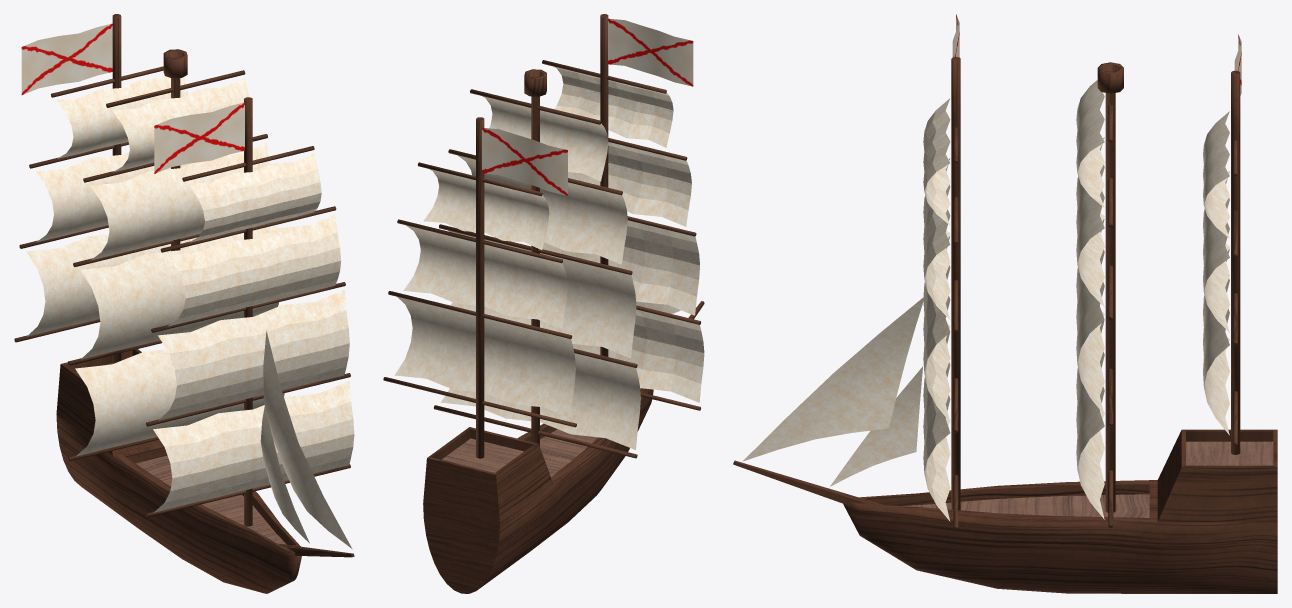
Rendered from ship.fbx.
The picture shows the model from 3 angles, left to right: view 1: azimuth 30°, elevation 25°; view 2: azimuth 150°, elevation 25°; view 3: azimuth 270°, elevation 25°; orthographic projection. The views are drawn at different scales.
Parts seen in each view (by area): view 1: Cylinder.002; view 2: Cylinder.002; view 3: Cylinder.002.
Boxes of the visible parts, <box> form: Cylinder.002: <box>14,14,354,593</box>; Cylinder.002: <box>383,14,704,593</box>; Cylinder.002: <box>733,14,1277,593</box>.
Bounding box in the file's own units: 67.05 × 150 × 139.
